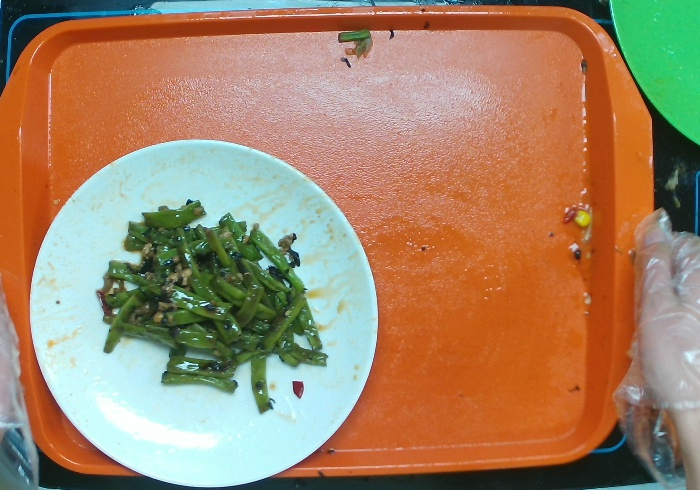HZYJPL-Bai_Se_Yuan_Pan: (26, 132, 393, 488)
